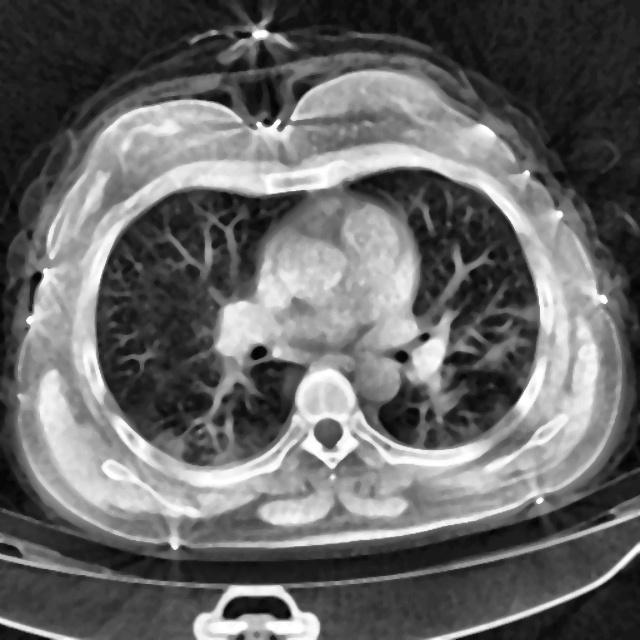covid: (2, 19, 636, 563)
